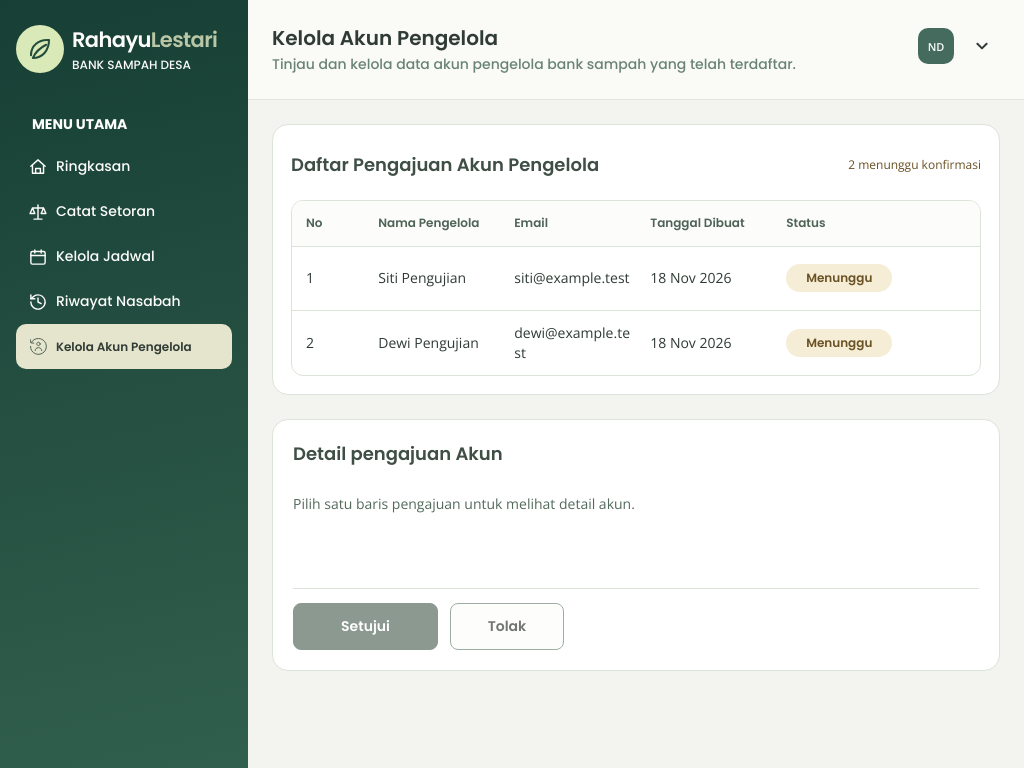
Scenario: Kelola Akun Pengelola › revalidates 409 without overwriting the other chair decision
Click the button "Siti Pengujian" at (426, 278), box [378,268,473,288]
(page scrolled)
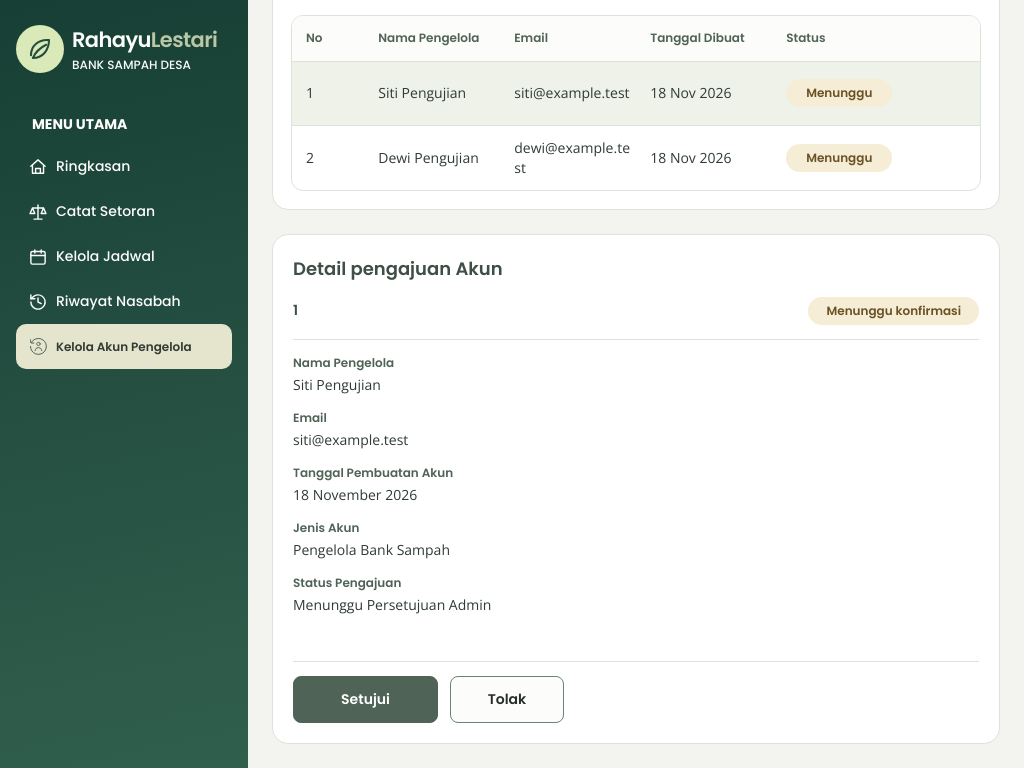
Now the text "siti@example.test" is shown, box [293,430,408,448]
Click the button "Setujui" at (366, 699), box [293,676,438,722]
(page scrolled)
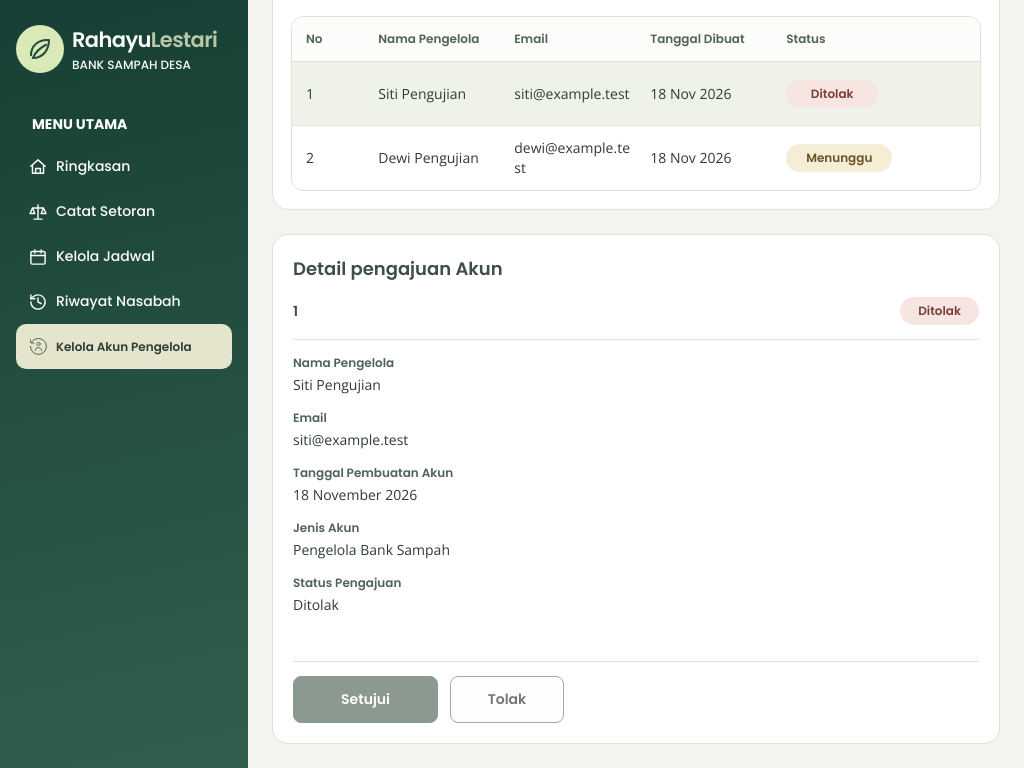
Now the text "Ditolak" below "Status Pengajuan" is shown, box [293,595,339,614]
Now the button "Setujui" is disabled, box [293,676,438,723]
